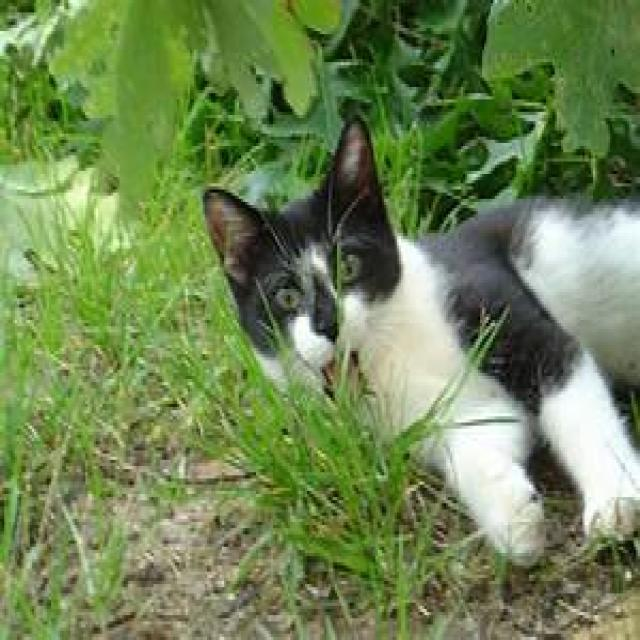animal: (203, 121, 640, 563)
